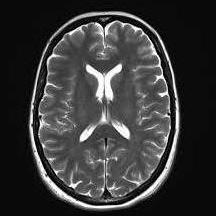Normal_Brain: (7, 4, 174, 216)
